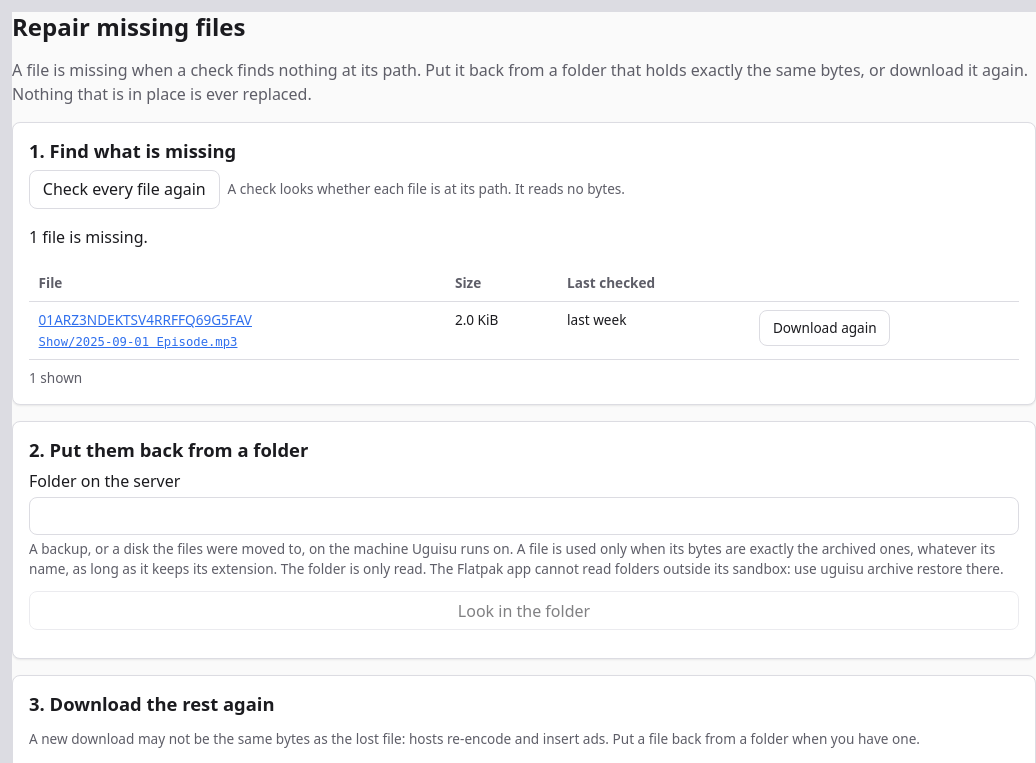
Test: archive repair view › shows why a download is refused
Click the button "Download again" at [825, 328], box [759,310,890,346]
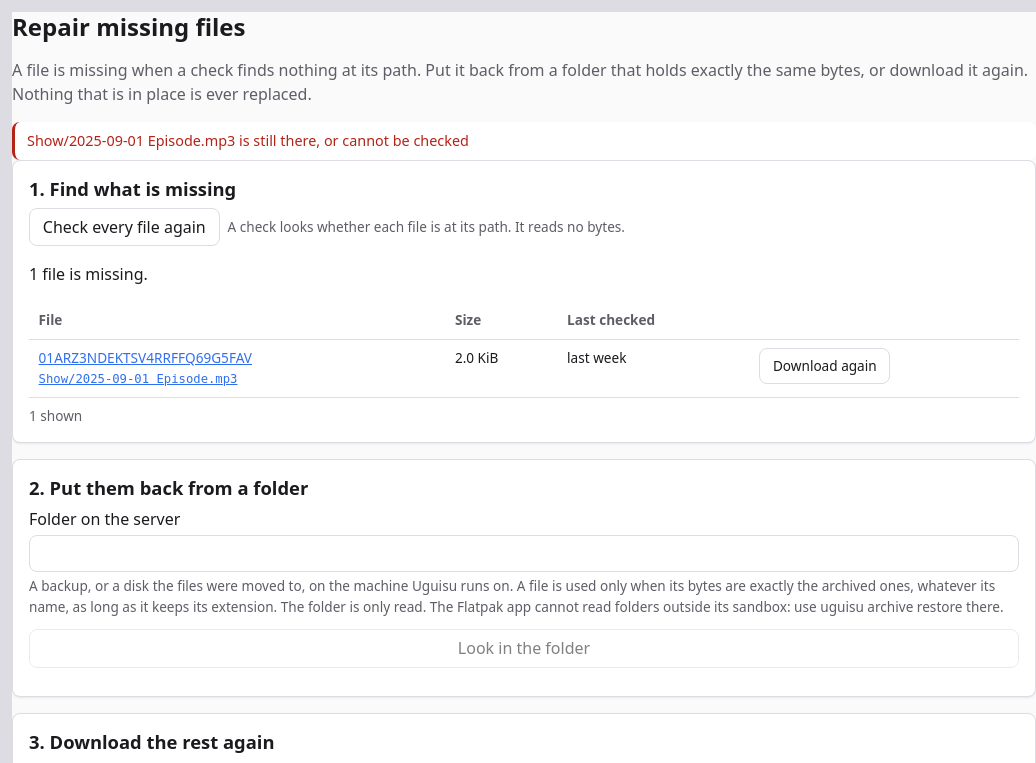
expect the text "Show/2025-09-01 Episode.mp3 is still there, or cannot be checked" is shown: met, box [12,122,1035,160]
